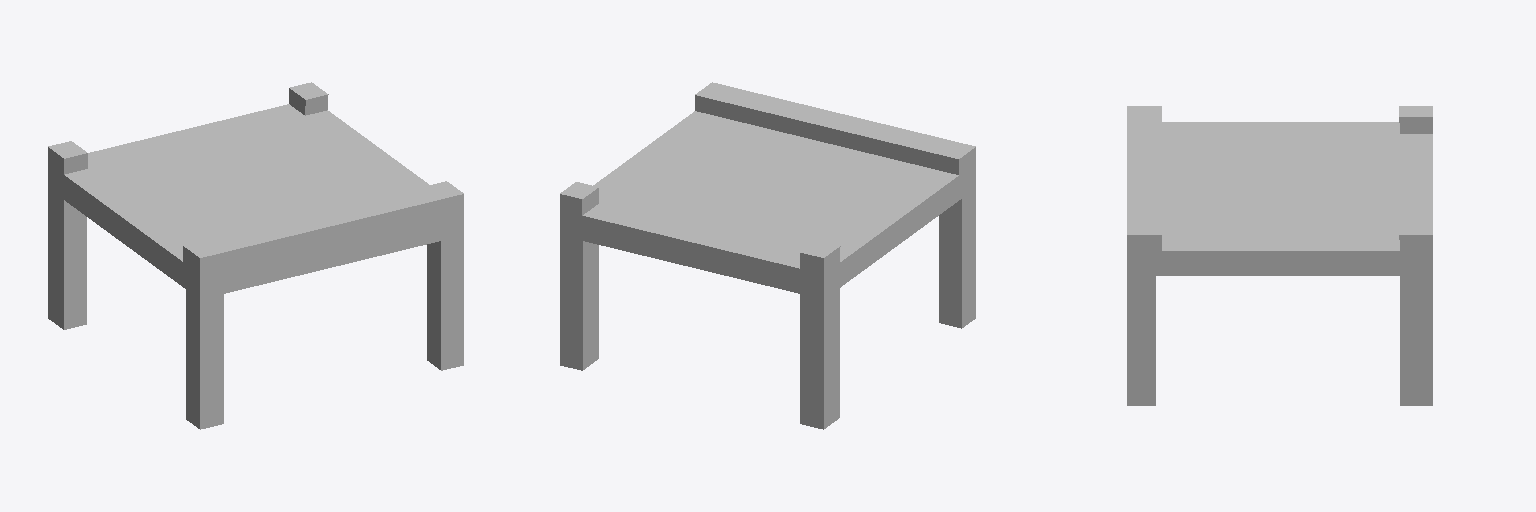
Rendered from ConveyorT01.obj.
The picture shows the model from 3 angles: view 1: azimuth 30°, elevation 25°; view 2: azimuth 150°, elevation 25°; view 3: azimuth 270°, elevation 25°; orthographic projection.
Visible parts, largest first — view 1: Cube4_copy14; view 2: Cube4_copy14; view 3: Cube4_copy14.
Part boxes in pixels (bbox=[...]): Cube4_copy14: bbox=[48, 82, 463, 429]; Cube4_copy14: bbox=[560, 82, 975, 429]; Cube4_copy14: bbox=[1127, 106, 1432, 405].
Bounding box in the file's own units: 1 × 0.6205 × 1.